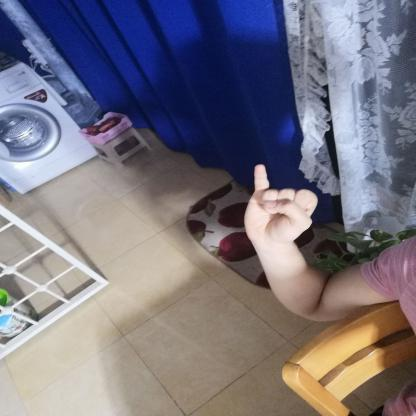MEEM: (234, 155, 325, 253)
